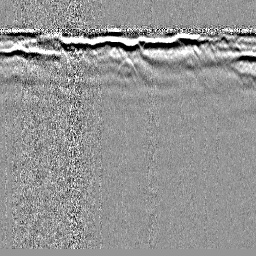cavity: (115, 55, 138, 75)
